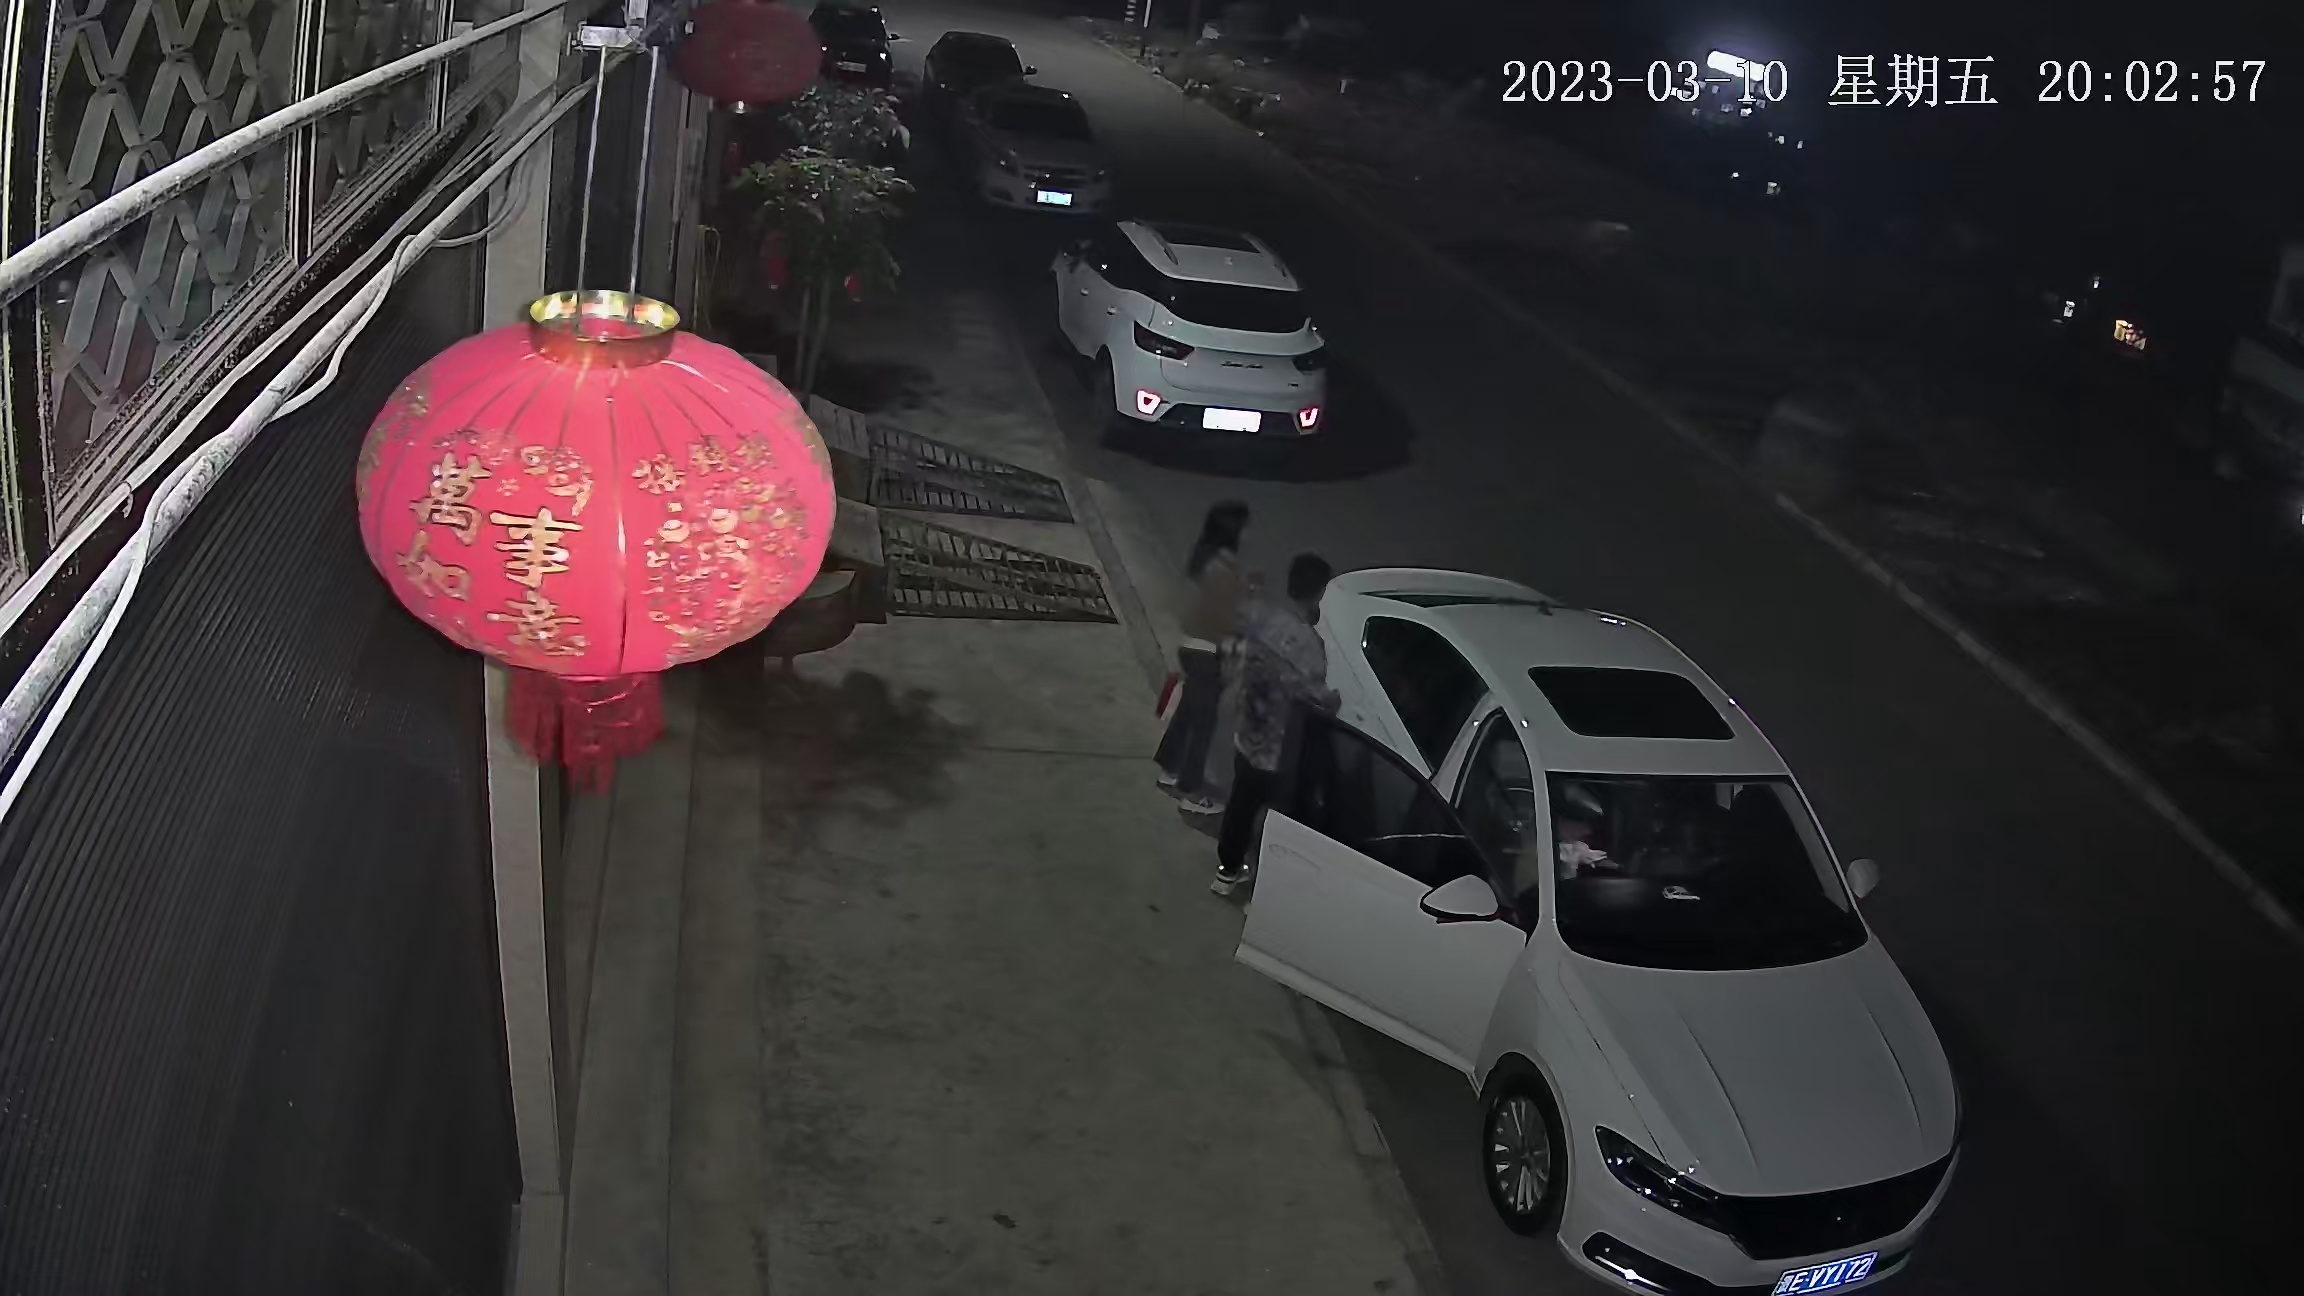person: (1229, 549, 1315, 889), (1173, 488, 1242, 818)
sedan: (1293, 552, 1974, 1285), (945, 81, 1115, 224), (803, 5, 898, 87), (925, 26, 1037, 90)
suv: (1040, 213, 1343, 459)
